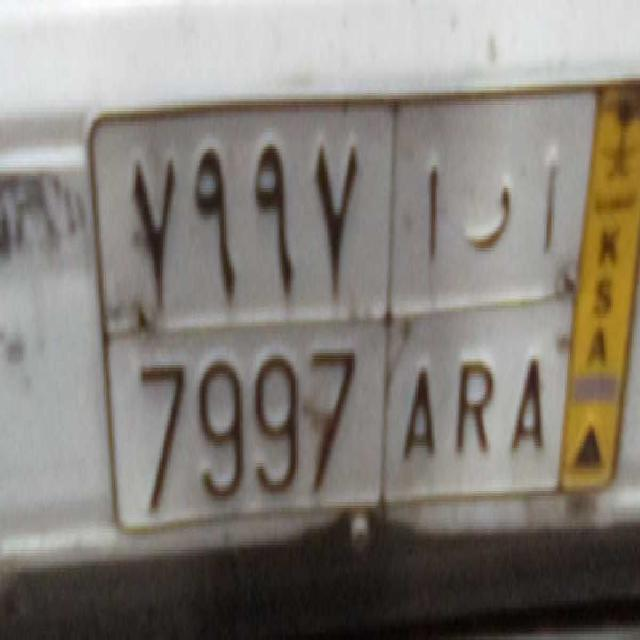license_plate: (102, 312, 566, 528)
